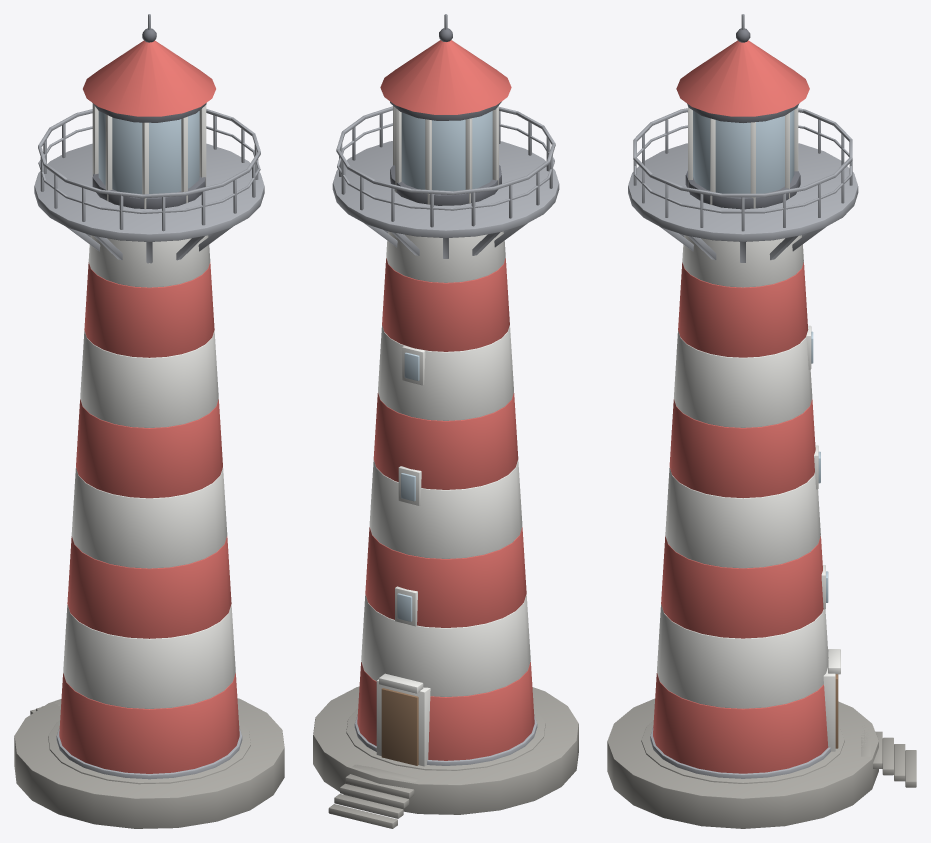
The model's file is th15_leuchtturm.glb.
The picture shows the model from 3 angles, left to right: view 1: azimuth 30°, elevation 25°; view 2: azimuth 150°, elevation 25°; view 3: azimuth 270°, elevation 25°; orthographic projection.
Parts seen in each view (by area): view 1: Cylinder, Cone.001, Cone, Cone.002, Cone.003, Cylinder.004, Cone.004, Cone.005, Cone.006, Cone.008, Cylinder.005, Cone.007 (+8 smaller); view 2: Cylinder, Cone.001, Cone.002, Cylinder.004, Cone.003, Cone.004, Cone.006, Cone.005, Cone, Cone.008, Cylinder.005, Cone.007 (+15 smaller); view 3: Cylinder, Cone.001, Cone.002, Cone, Cone.003, Cylinder.004, Cone.004, Cone.005, Cone.006, Cone.008, Cylinder.005, Cone.007 (+5 smaller).
Boxes of the visible parts, <box> form: Cylinder: <box>14,698,284,828</box>; Cone.001: <box>63,605,235,708</box>; Cone: <box>59,673,239,773</box>; Cone.002: <box>67,536,231,638</box>; Cone.003: <box>71,468,227,568</box>; Cylinder.004: <box>34,143,264,241</box>; Cone.004: <box>76,399,222,498</box>; Cone.005: <box>80,331,218,427</box>; Cone.006: <box>84,262,214,357</box>; Cone.008: <box>83,40,215,116</box>; Cylinder.005: <box>98,111,199,194</box>; Cone.007: <box>88,235,210,287</box>; Cylinder: <box>313,686,578,814</box>; Cone.001: <box>361,594,530,696</box>; Cone.002: <box>365,527,526,627</box>; Cylinder.004: <box>332,141,559,238</box>; Cone.003: <box>369,460,522,558</box>; Cone.004: <box>373,393,518,489</box>; Cone.006: <box>382,258,509,351</box>; Cone.005: <box>378,325,513,420</box>; Cone: <box>357,662,534,760</box>; Cone.008: <box>380,40,511,114</box>; Cylinder.005: <box>401,111,492,191</box>; Cone.007: <box>386,231,505,282</box>; Cylinder: <box>607,698,878,828</box>; Cone.001: <box>657,604,828,708</box>; Cone.002: <box>661,536,823,638</box>; Cone: <box>653,673,828,773</box>; Cone.003: <box>665,468,820,568</box>; Cylinder.004: <box>628,143,858,241</box>; Cone.004: <box>669,399,815,498</box>; Cone.005: <box>674,331,812,427</box>; Cone.006: <box>678,262,808,357</box>; Cone.008: <box>676,40,809,116</box>; Cylinder.005: <box>693,110,794,193</box>; Cone.007: <box>682,235,803,287</box>.
Bounding box in the file's own units: 7.2 × 22.14 × 8.2.
